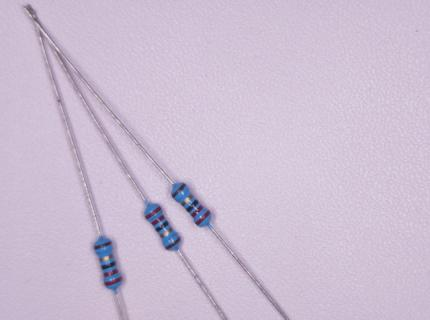Red band: (195, 210, 211, 226), (144, 206, 162, 220), (104, 275, 122, 286), (190, 205, 204, 218), (150, 214, 165, 226), (104, 268, 119, 277)
